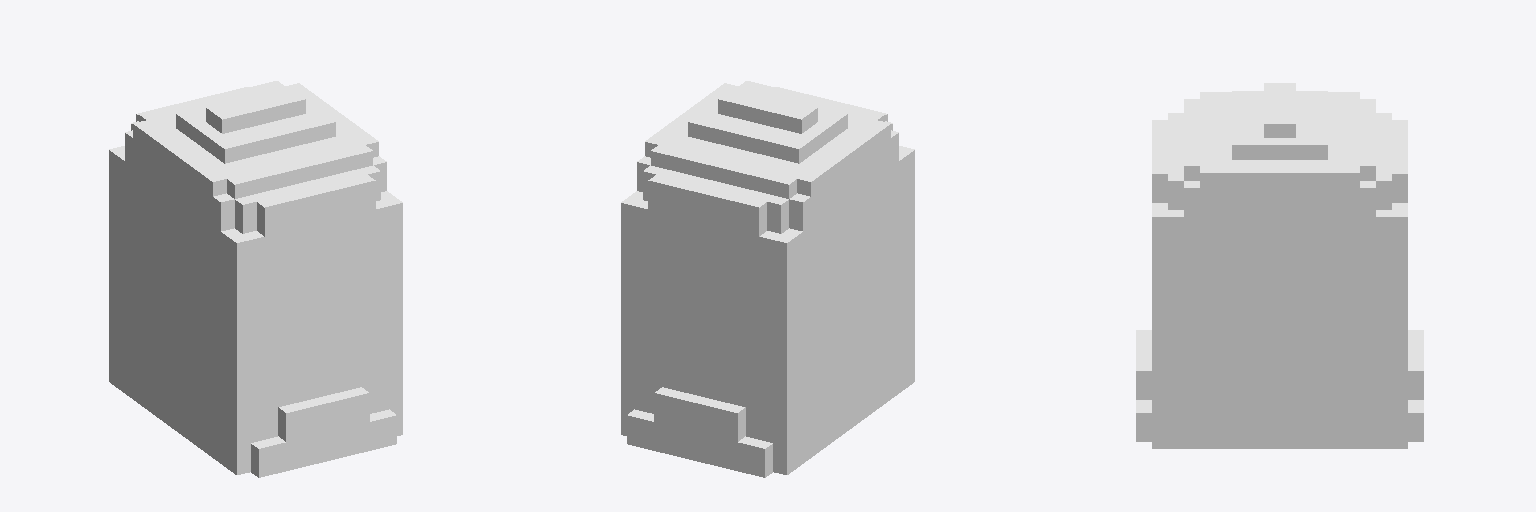
File: kiritan-12-Body.obj
3 renders of one model, left to right at view 1: azimuth 30°, elevation 25°; view 2: azimuth 150°, elevation 25°; view 3: azimuth 270°, elevation 25°, orthographic.
Visible parts, largest first — view 1: Body; view 2: Body; view 3: Body.
Part boxes in pixels (x1,y1,x2,y2): Body: (109, 81, 402, 477); Body: (621, 81, 914, 477); Body: (1136, 83, 1423, 448).
Bounding box in the file's own units: 1.2 × 2.1 × 1.8.